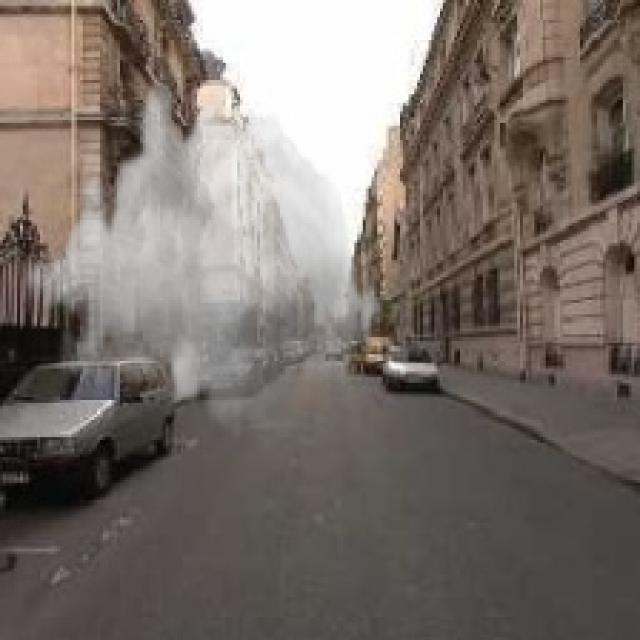Smoke: (23, 71, 386, 446)
